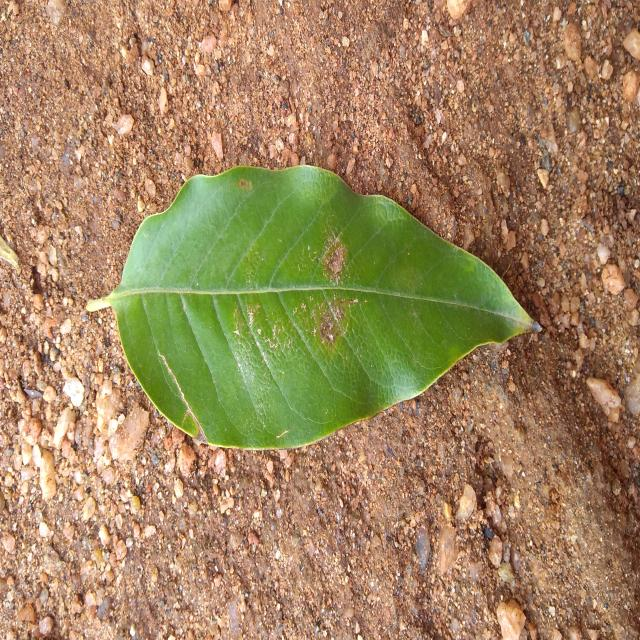sampige: (110, 167, 531, 449)
